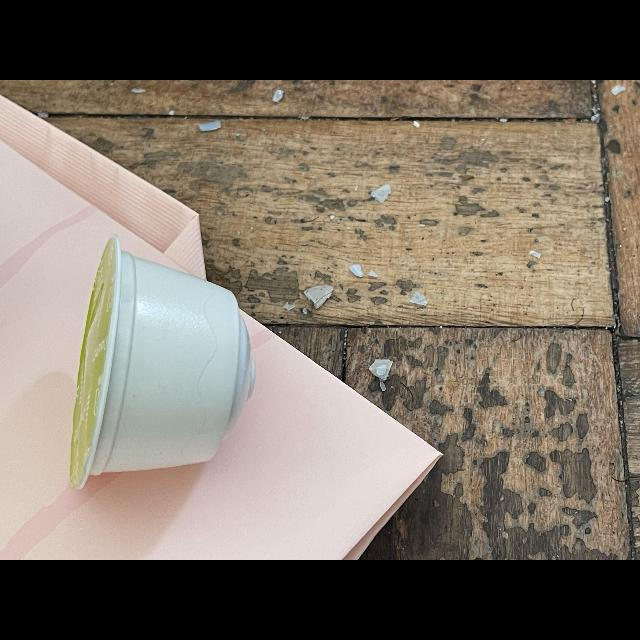intact_capsule: (49, 227, 297, 503)
